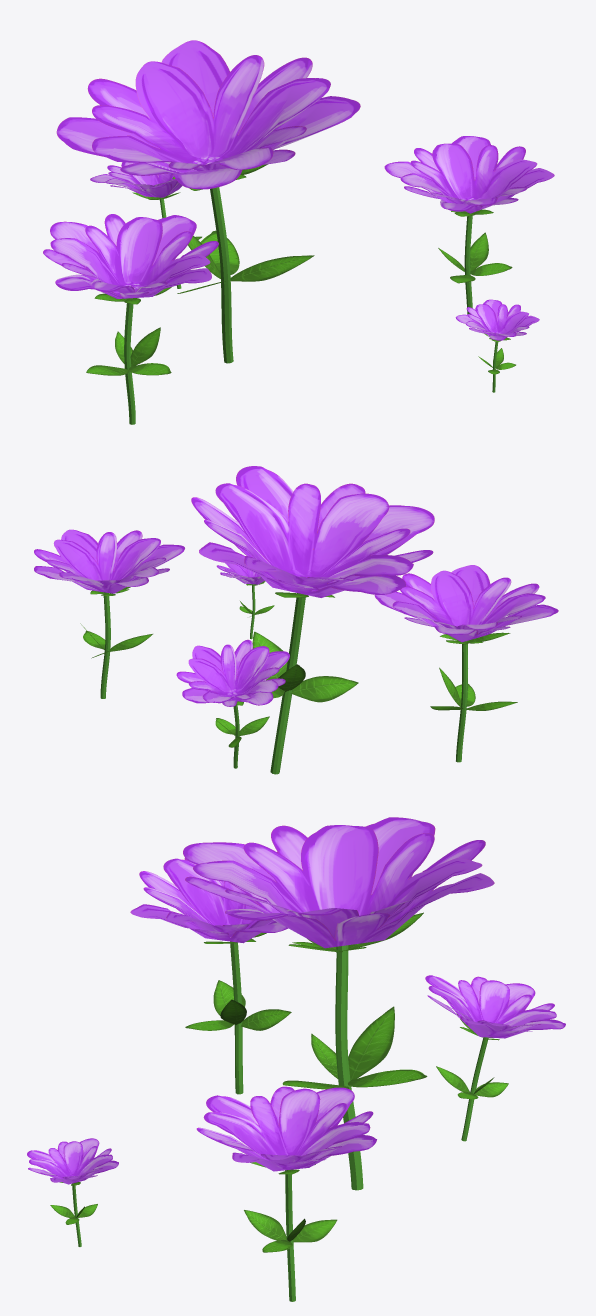
Rendered from Flower3.fbx.
3 views of the same model, one above another, from view 1: azimuth 30°, elevation 25°; view 2: azimuth 150°, elevation 25°; view 3: azimuth 270°, elevation 25° (orthographic). The views are drawn at different scales.
Visible parts, largest first — view 1: Flower3Group; view 2: Flower3Group; view 3: Flower3Group.
Boxes of the visible parts, x1,y1,x2,y2 form: Flower3Group: (43, 40, 554, 424); Flower3Group: (34, 466, 558, 774); Flower3Group: (27, 817, 565, 1301).
Size of the model in its own units: 704 by 347 by 550.
